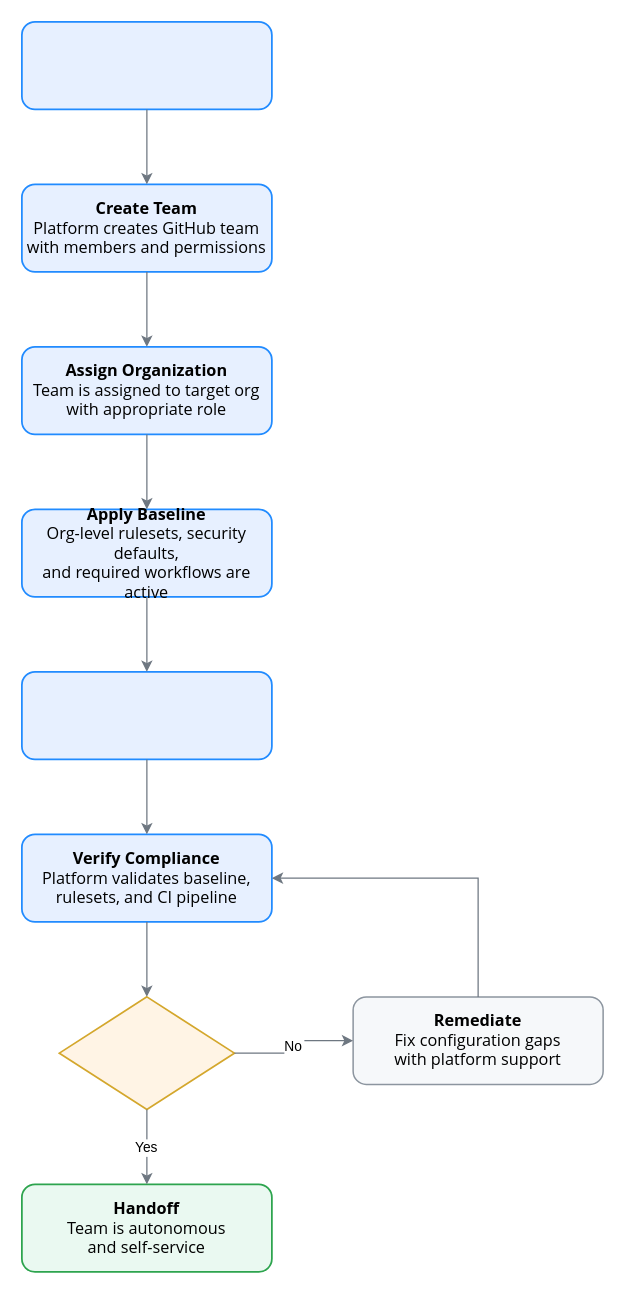
Image size: 626x1295. Some labels were removed from this diagram. Each missing label, with the centre of its shape:
Compliant?: the point at 146,1052
Create First Repo Team creates repo from platform template: the point at 146,715
Request Access Team lead submits onboarding request via service catalog: the point at 146,65
